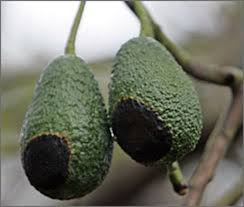damaged_avocado: (20, 55, 108, 199), (110, 36, 201, 164)
